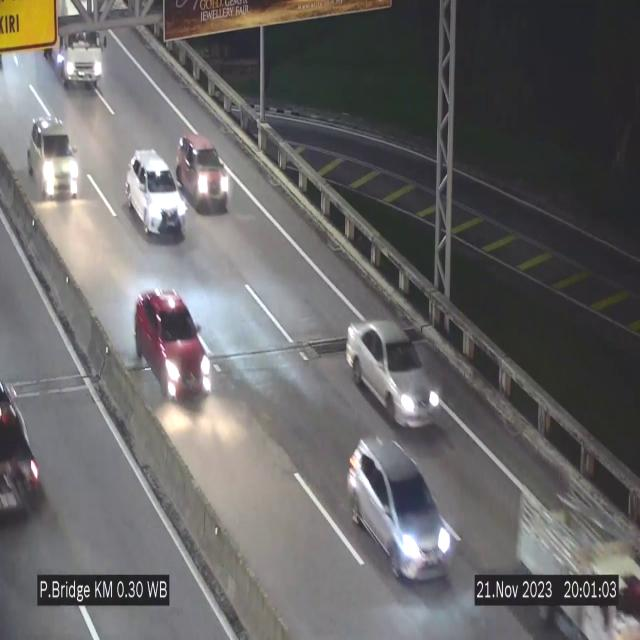Car: (346, 436, 455, 580), (345, 321, 443, 427), (132, 284, 209, 406), (0, 375, 49, 530), (24, 111, 82, 213), (126, 149, 187, 238), (175, 134, 229, 211)
Truck: (505, 472, 640, 640), (38, 0, 113, 92)
